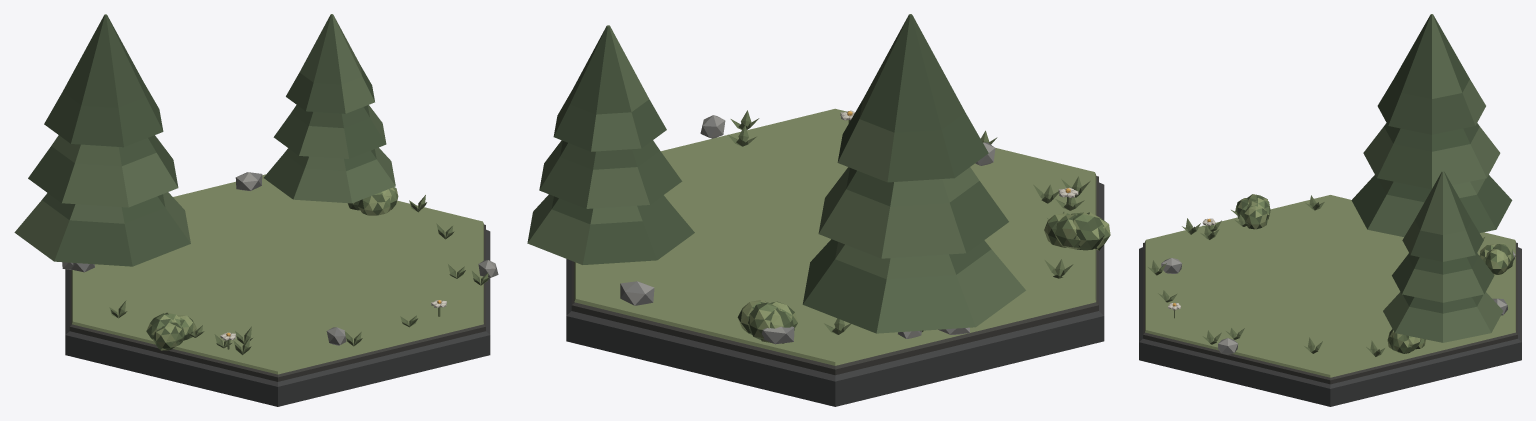
The model's file is hex_meadow_building.glb.
3 views of the same model, side by side, from view 1: azimuth 30°, elevation 25°; view 2: azimuth 150°, elevation 25°; view 3: azimuth 270°, elevation 25° (orthographic). The views are drawn at different scales.
Parts seen in each view (by area): view 1: Hex meadow, Hex stone foundation, Angular pine crown, Angular pine crown.002, Angular pine crown.001, Angular pine crown.003, Angular pine crown.005, Angular pine crown.004, Hex earth rim, Leaf cluster.007, Leaf cluster.010, Meadow stone.005; view 2: Hex meadow, Hex stone foundation, Angular pine crown, Angular pine crown.002, Angular pine crown.001, Angular pine crown.003, Angular pine crown.005, Angular pine crown.004, Hex earth rim, Leaf cluster.005, Meadow stone.005, Leaf cluster.014 (+1 smaller); view 3: Hex meadow, Hex stone foundation, Angular pine crown.002, Angular pine crown.001, Angular pine crown, Angular pine crown.003, Angular pine crown.005, Angular pine crown.004, Hex earth rim, Leaf cluster.015, Leaf cluster.004.
Part boxes in pixels (box(x1,y1,x2,y2)): Hex meadow: box(71, 174, 483, 374); Hex stone foundation: box(65, 229, 490, 406); Angular pine crown: box(14, 192, 190, 266); Angular pine crown.002: box(44, 14, 163, 147); Angular pine crown.001: box(28, 135, 178, 207); Angular pine crown.003: box(263, 147, 395, 203); Angular pine crown.005: box(286, 14, 374, 113); Angular pine crown.004: box(273, 105, 386, 158); Hex earth rim: box(69, 224, 485, 381); Leaf cluster.007: box(152, 322, 184, 350); Leaf cluster.010: box(358, 192, 391, 215); Meadow stone.005: box(235, 172, 262, 190); Hex meadow: box(574, 108, 1096, 365); Hex stone foundation: box(566, 182, 1104, 406); Angular pine crown: box(802, 239, 1025, 333); Angular pine crown.002: box(837, 14, 988, 182); Angular pine crown.001: box(818, 167, 1008, 258); Angular pine crown.003: box(527, 194, 694, 264); Angular pine crown.005: box(553, 25, 666, 151); Angular pine crown.004: box(539, 140, 682, 208); Hex earth rim: box(571, 176, 1098, 375); Leaf cluster.005: box(1071, 212, 1104, 250); Meadow stone.005: box(620, 281, 654, 305); Leaf cluster.014: box(748, 302, 780, 339); Hex meadow: box(1145, 195, 1515, 377); Hex stone foundation: box(1139, 247, 1521, 406); Angular pine crown.002: box(1377, 14, 1485, 134); Angular pine crown.001: box(1363, 123, 1500, 189); Angular pine crown: box(1351, 175, 1512, 236); Angular pine crown.003: box(1383, 292, 1503, 342); Angular pine crown.005: box(1402, 171, 1483, 261); Angular pine crown.004: box(1392, 253, 1494, 302); Hex earth rim: box(1143, 242, 1517, 384); Leaf cluster.015: box(1485, 249, 1508, 274); Leaf cluster.004: box(1243, 206, 1267, 229).
Size of the model in its own units: 5.1 by 3.16 by 4.42.
